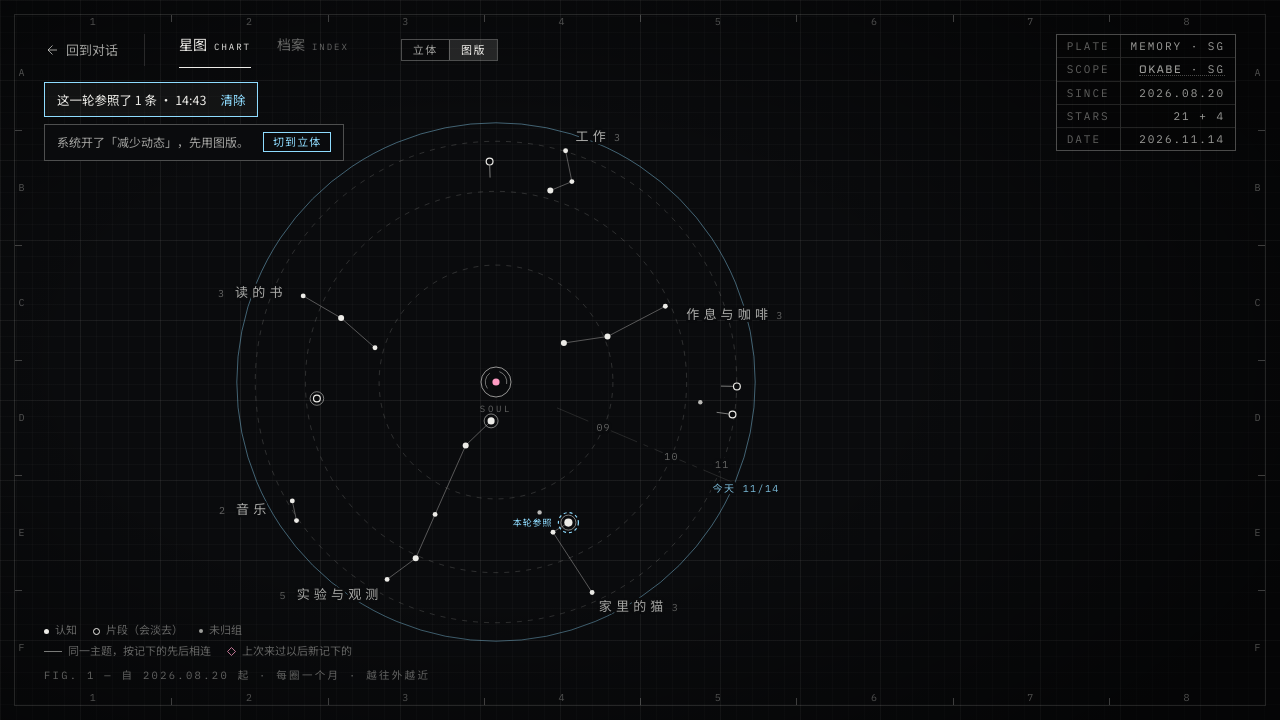
Scenario: MemorySpace opened from a chat mark › browsing another scope leaves the link behind
Click the button with test id "memory-scope" at {"x": 1182, "y": 70}, box [1139,64,1225,76]
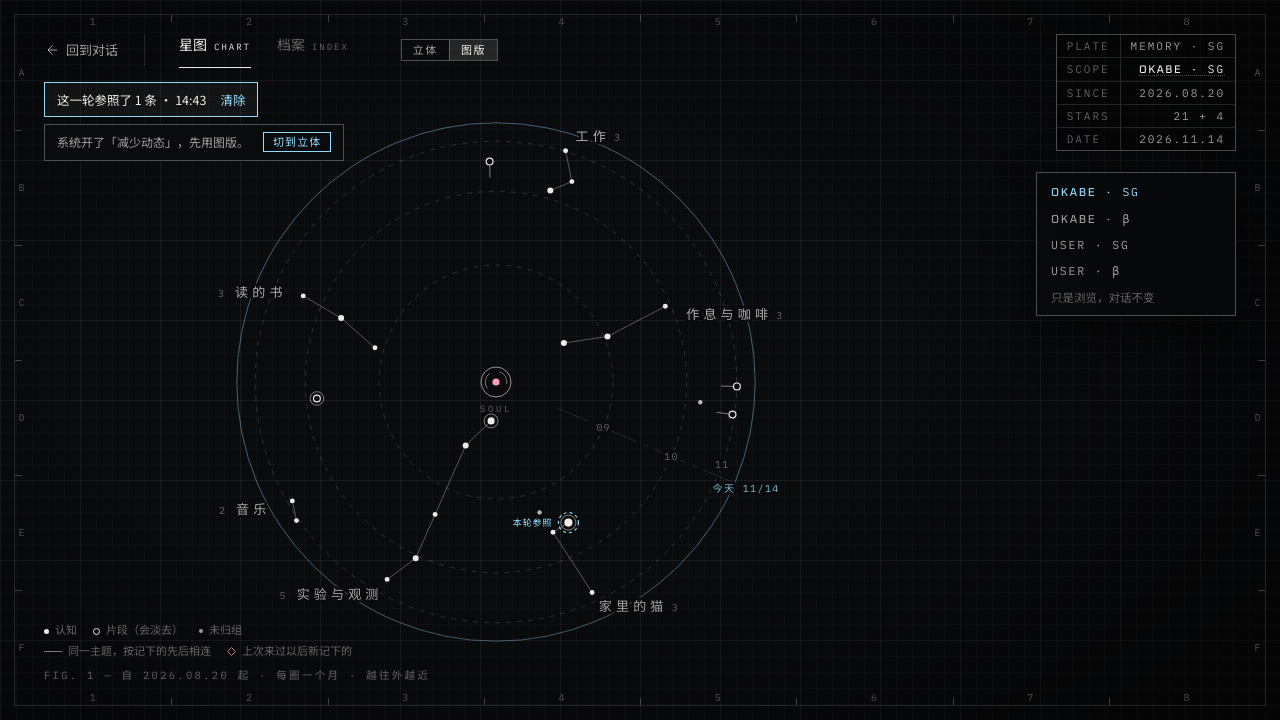
Click the option "OKABE · β" at {"x": 1091, "y": 218}, box [1051,210,1131,226]
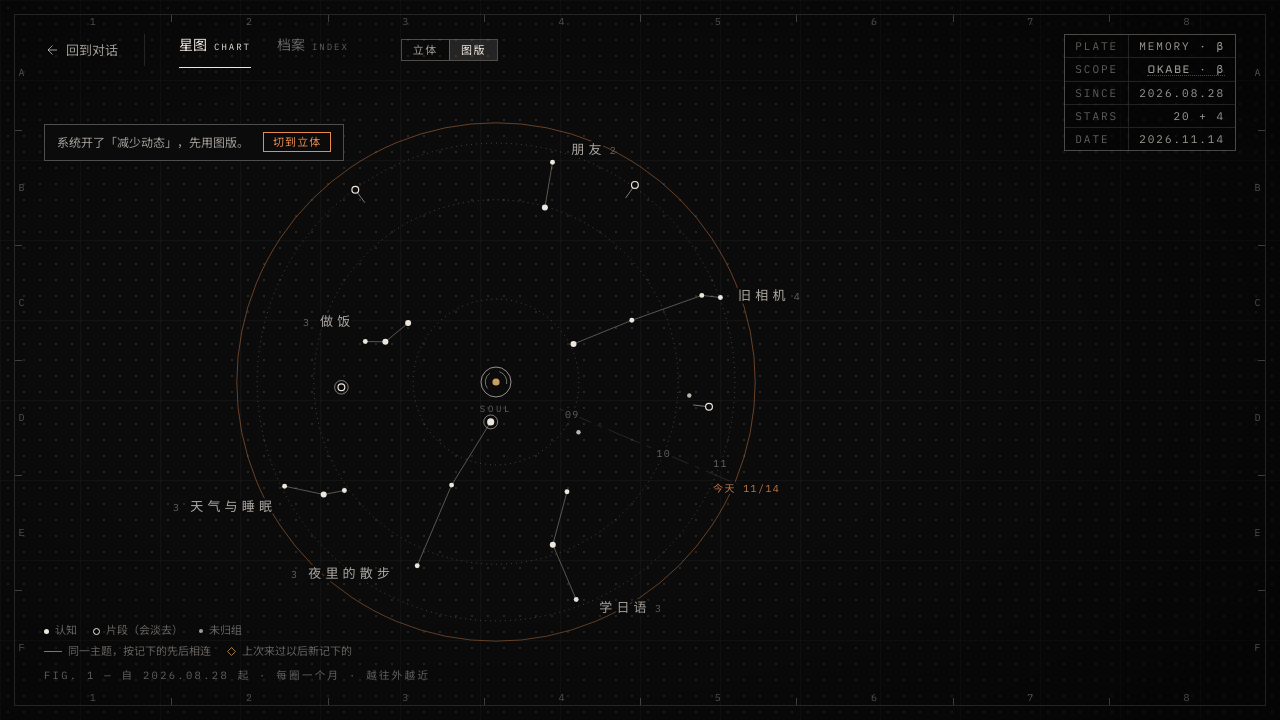
Expected: the element with test id "memory-ref-hint" is gone
